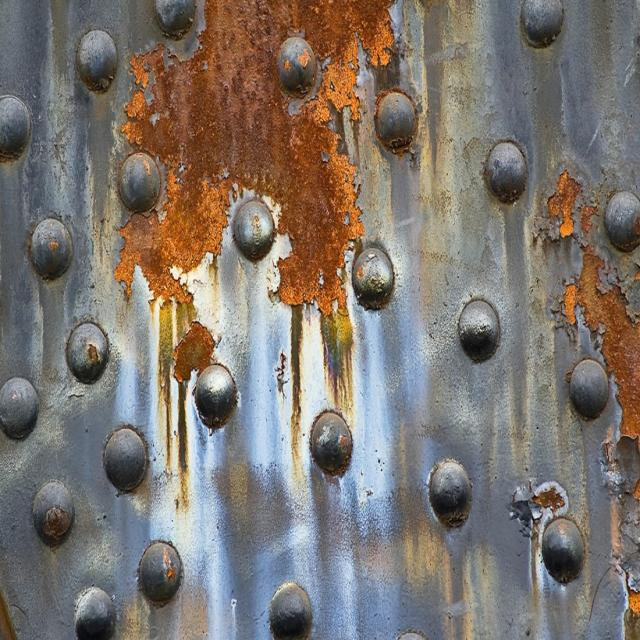Uniform Corrosion: (115, 0, 393, 390), (115, 0, 394, 313), (566, 246, 639, 440), (548, 170, 581, 236)
